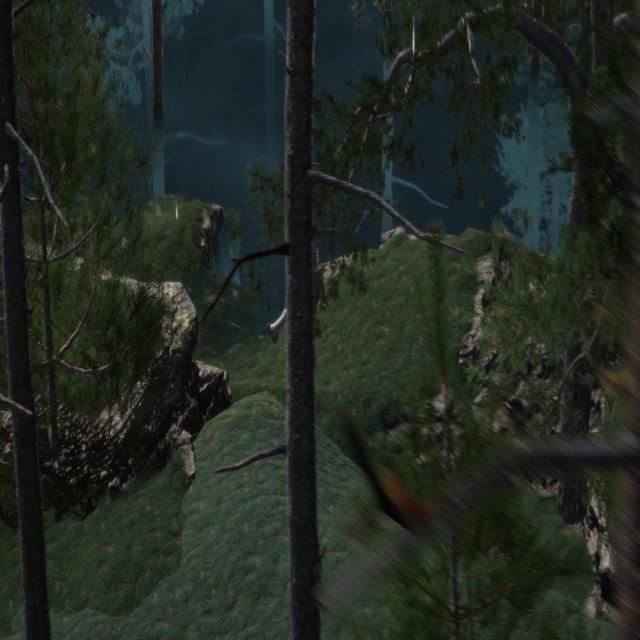Human: (255, 282, 323, 344)
